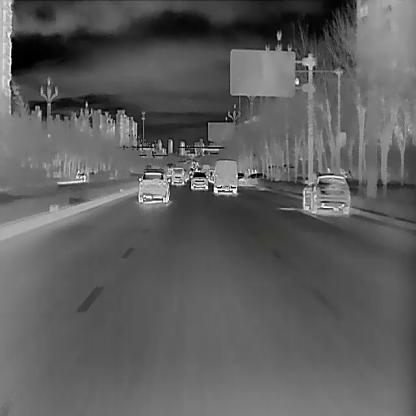car: (301, 172, 349, 216), (137, 172, 169, 203), (212, 158, 236, 195), (188, 172, 208, 190), (239, 172, 267, 184), (171, 168, 183, 184)
